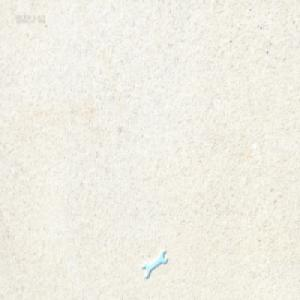Wrench: (139, 248, 164, 276)
